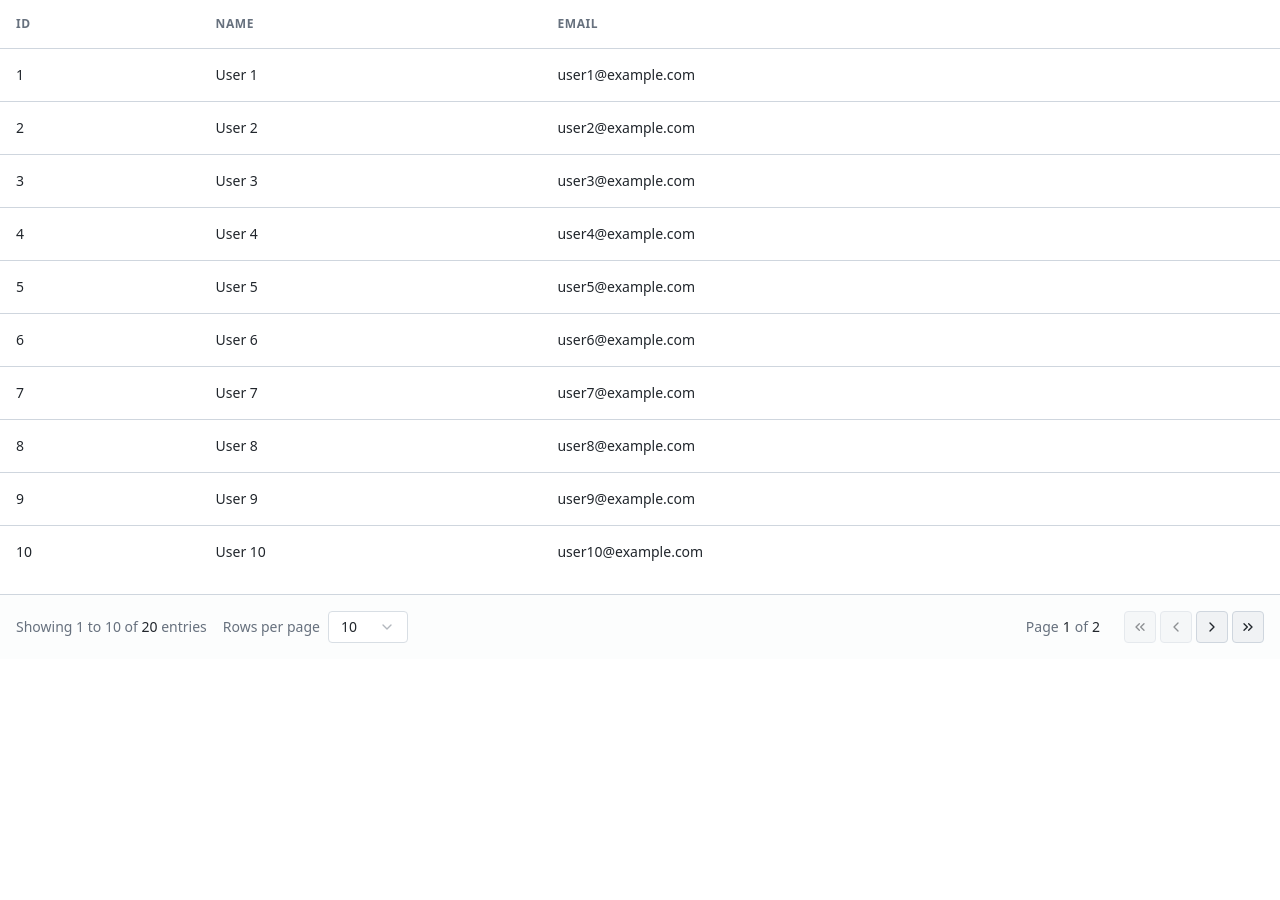
Scenario: DataTable › pagination buttons navigate between pages
Check: the text "User 1" is shown, box [200, 48, 541, 101]
What coordinates should you click on to do the following:
click the 3rd button named "go to next page"
I would click on:
 (1212, 626)
Its box is [1196, 610, 1228, 642].
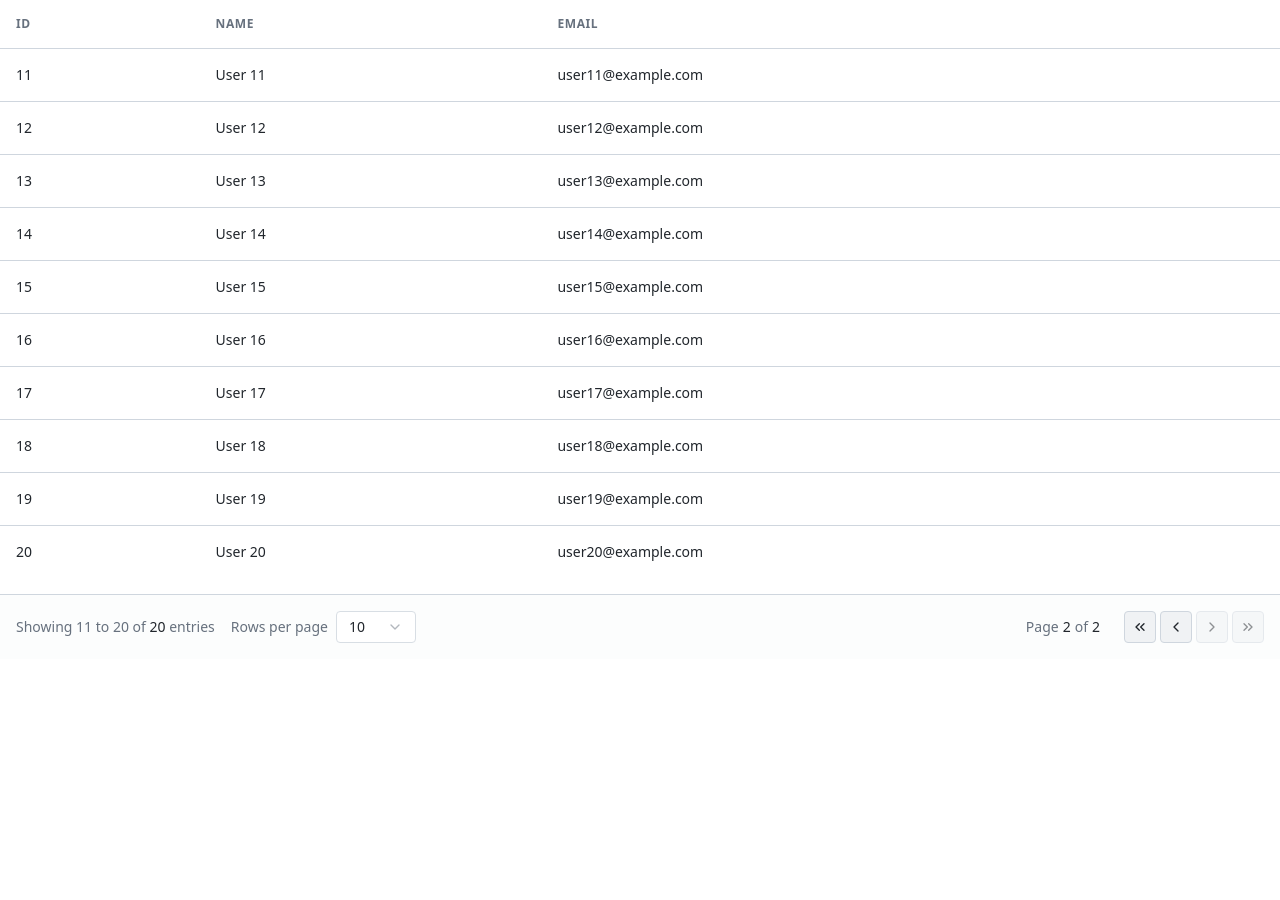
Check: the text "User 11" is shown, box [200, 48, 541, 101]
